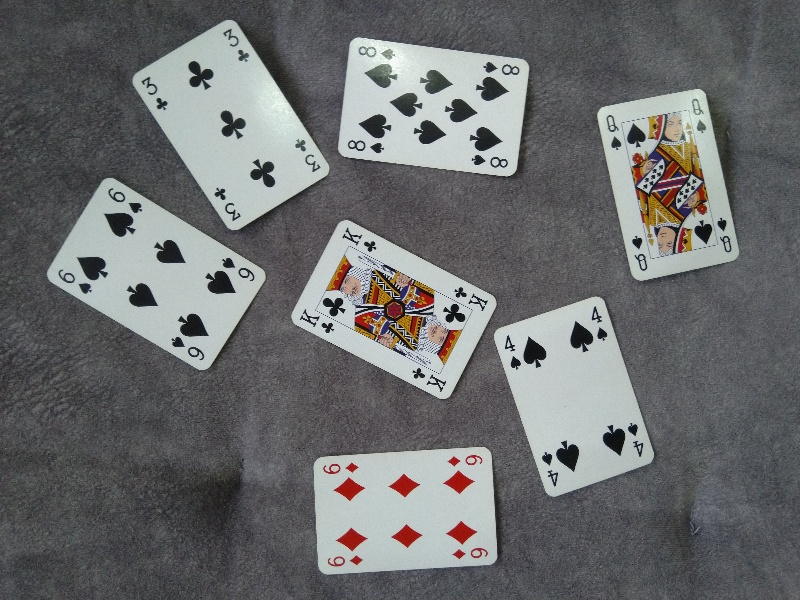3c: (291, 135, 322, 174), (222, 25, 251, 66), (138, 75, 170, 111), (214, 185, 243, 224)
4s: (537, 450, 562, 489), (589, 303, 609, 343), (502, 334, 522, 372), (628, 418, 644, 459)
6d: (319, 456, 365, 477), (443, 451, 484, 470), (325, 554, 368, 569), (450, 545, 489, 561)
6s: (106, 185, 145, 216), (170, 334, 209, 363), (57, 266, 94, 296), (220, 255, 257, 284)
8s: (468, 152, 514, 172), (355, 43, 398, 63), (345, 138, 390, 157), (478, 59, 523, 76)
Kc: (297, 306, 338, 335), (450, 284, 489, 311), (410, 367, 448, 394), (341, 226, 378, 253)
Qs: (625, 232, 650, 274), (599, 113, 622, 151), (716, 213, 735, 256), (689, 95, 709, 134)
